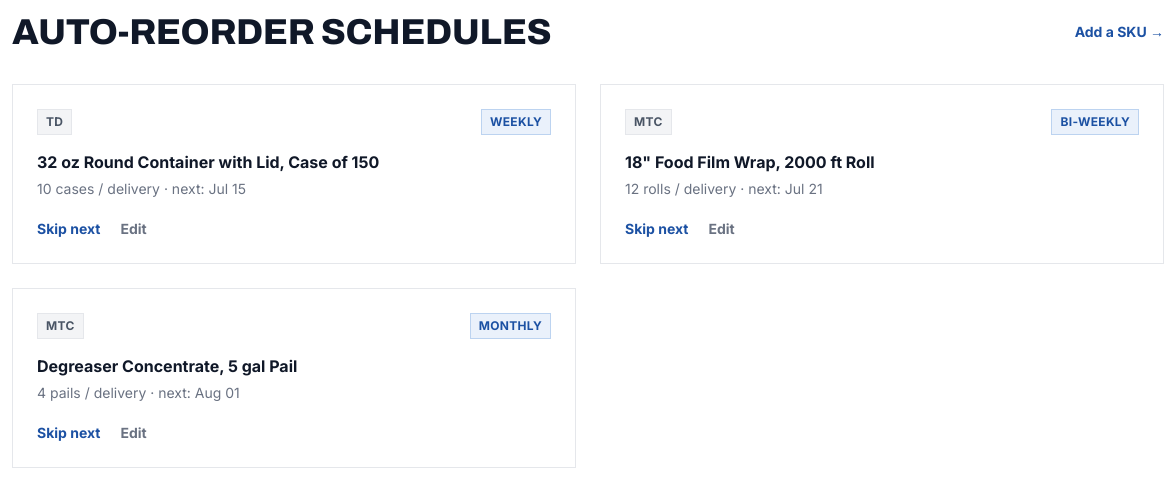
SchedulesPage › only affects the schedule that was skipped, not the others
Click the button "Skip next" below "10 cases / delivery": (69, 229) 37,219 -> 100,239
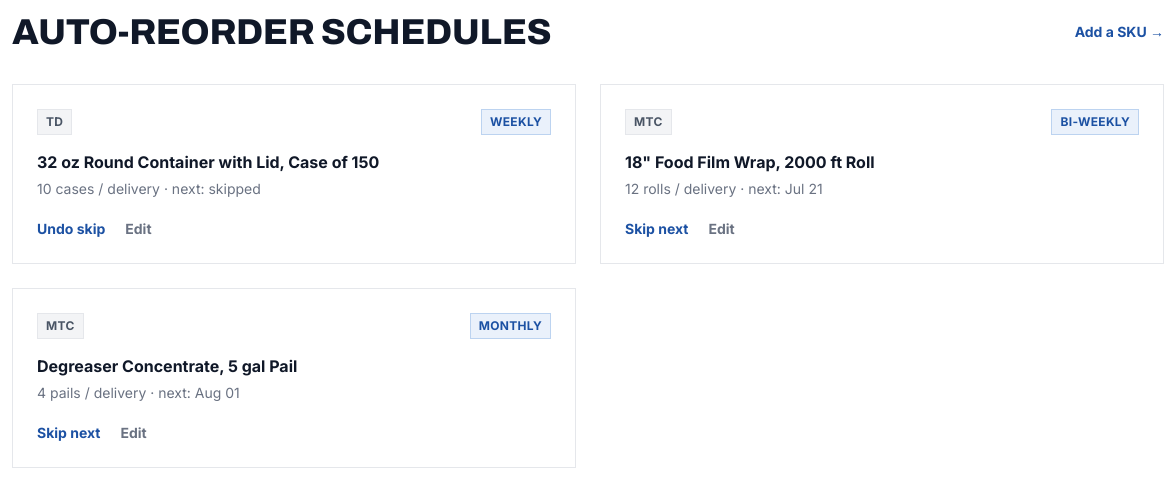
Check: the text "10 cases / delivery · next: skipped" is shown, box 37,180 -> 261,197
